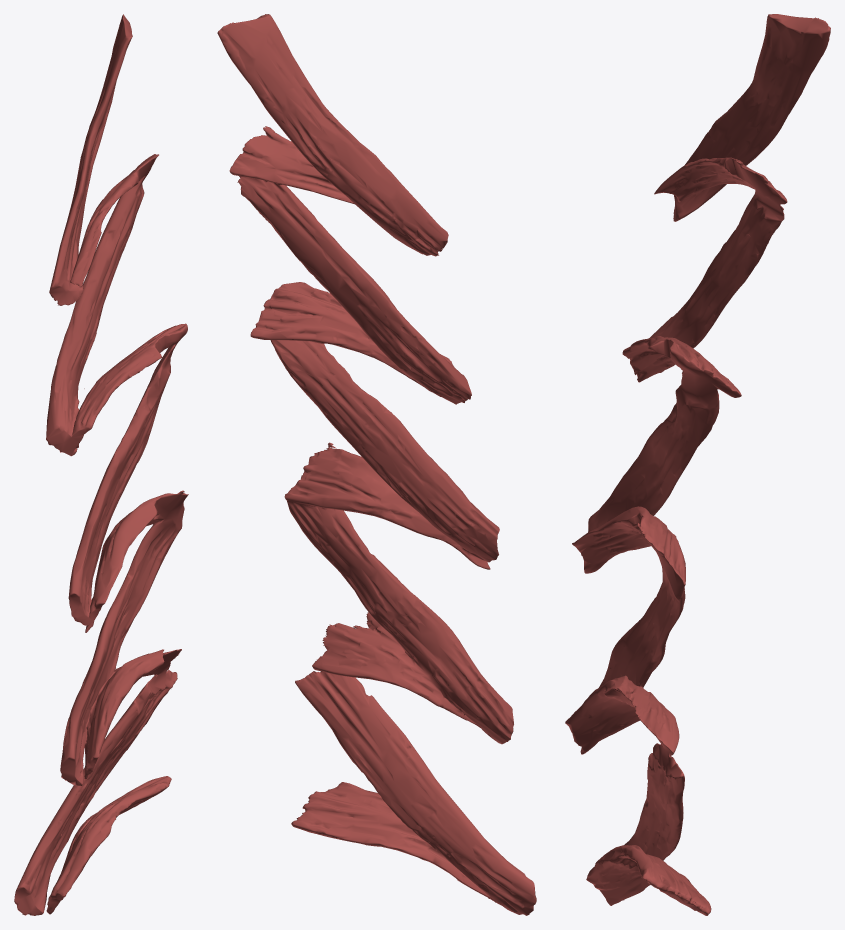
File: FMA23089.glb
3 views of the same model, side by side, from view 1: azimuth 30°, elevation 25°; view 2: azimuth 150°, elevation 25°; view 3: azimuth 270°, elevation 25° (orthographic). The views are drawn at different scales.
Visible parts, largest first — view 1: FMA23089; view 2: FMA23089; view 3: FMA23089.
Part boxes in pixels (bbox=[...]): FMA23089: bbox=[14, 14, 188, 915]; FMA23089: bbox=[217, 14, 536, 915]; FMA23089: bbox=[565, 14, 830, 915].
Size of the model in its own units: 0.0416 by 0.1565 by 0.0383.
